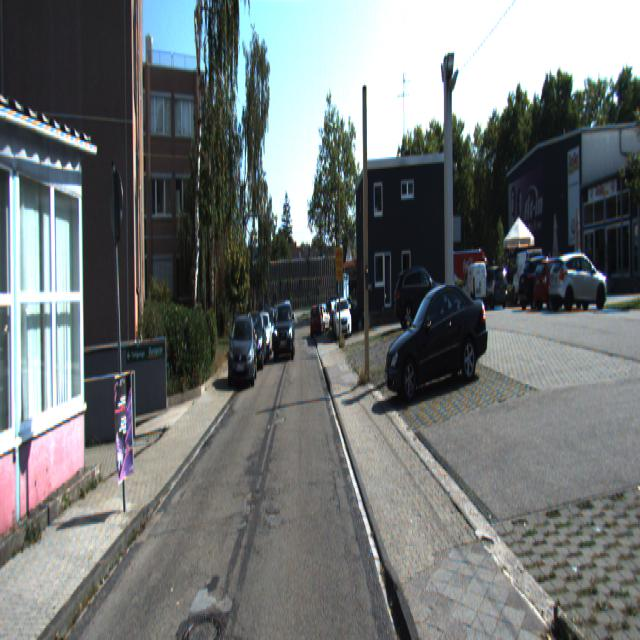Car: (382, 271, 496, 404), (547, 250, 610, 313), (395, 271, 449, 340), (531, 256, 592, 314), (516, 257, 576, 315), (227, 312, 258, 392), (512, 248, 543, 307), (240, 313, 268, 376), (272, 303, 296, 363), (461, 260, 489, 310), (478, 264, 508, 310), (333, 296, 352, 341), (310, 304, 323, 339)
